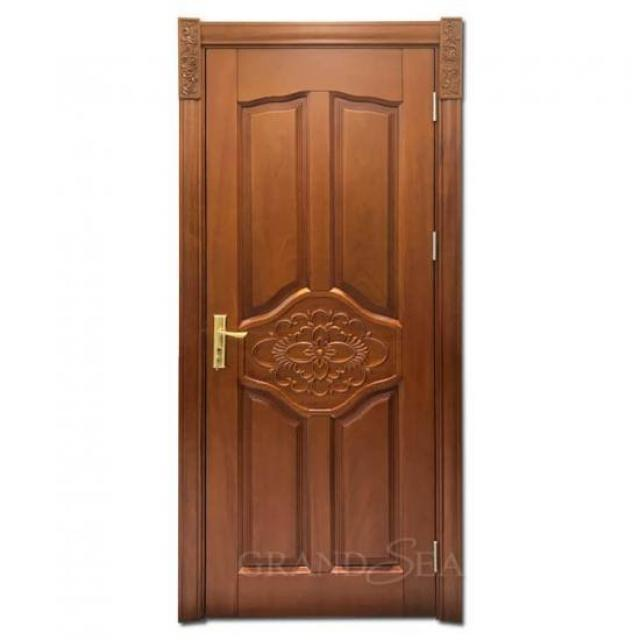door: (176, 15, 464, 624)
